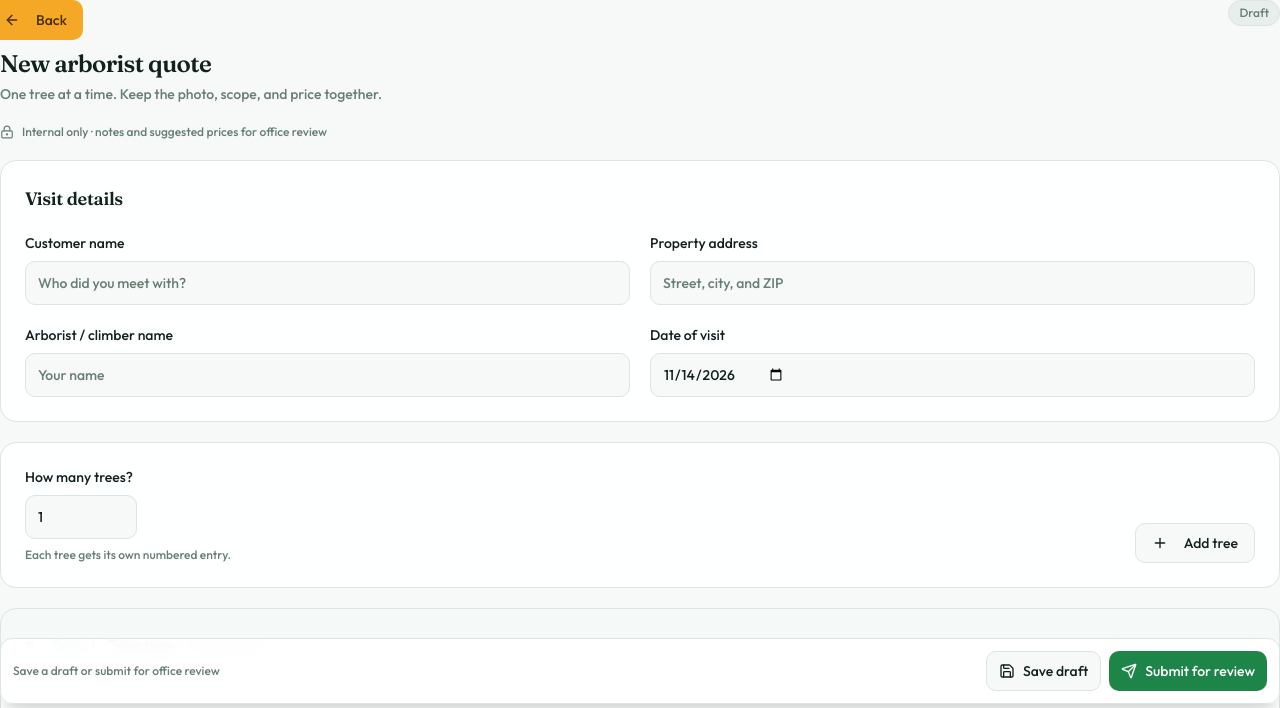
Test case: arborist quote editor › blocks incomplete submission without any write
This screenshot has width=1280, height=708.
Click the button "Submit for review" at (1188, 671), box [1109, 651, 1267, 691]
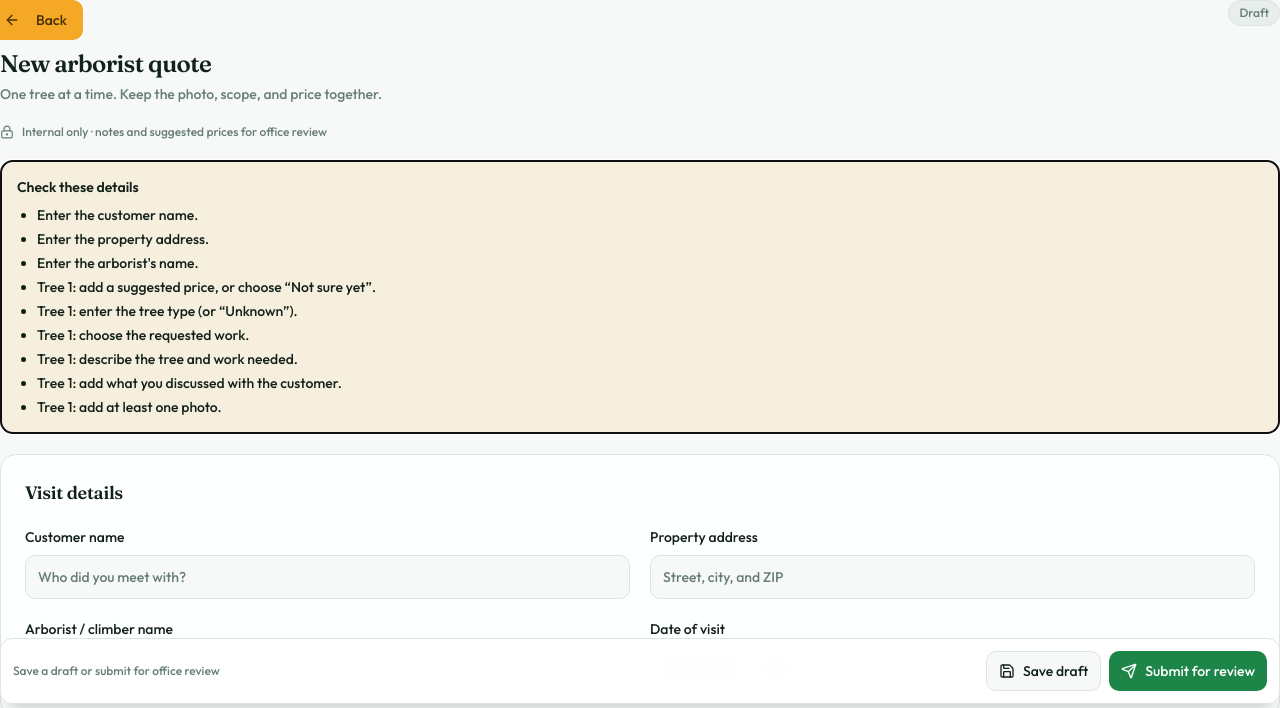
Expected: the message that starts with "Check these details" shows "Tree 1: add at least one photo.", [37, 398, 222, 416]
